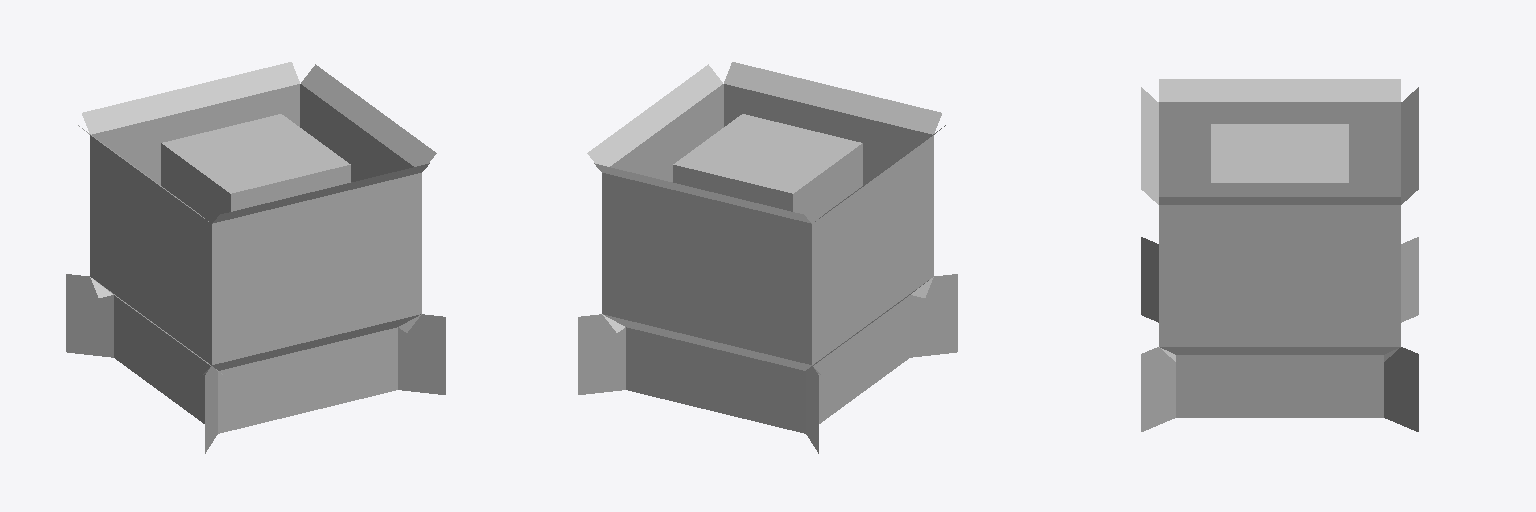
The model's file is item.obj.
The picture shows the model from 3 angles: view 1: azimuth 30°, elevation 25°; view 2: azimuth 150°, elevation 25°; view 3: azimuth 270°, elevation 25°; orthographic projection.
Visible parts, largest first — view 1: cube4, cube; view 2: cube4, cube; view 3: cube4, cube.
Boxes of the visible parts, <box> form: cube4: <box>66,62,445,453</box>; cube: <box>161,114,350,223</box>; cube4: <box>578,62,957,453</box>; cube: <box>673,114,862,223</box>; cube4: <box>1141,79,1418,431</box>; cube: <box>1211,124,1348,196</box>.
Size of the model in its own units: 1 by 0.9375 by 1.